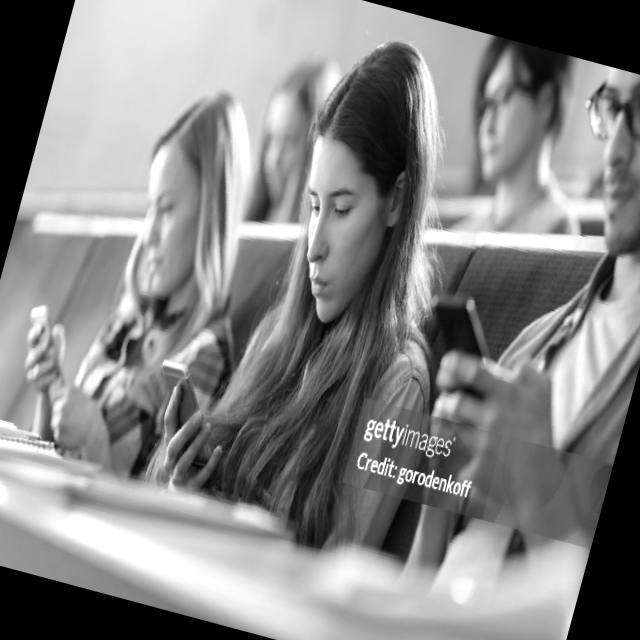phone: (408, 285, 504, 398), (138, 358, 232, 470), (12, 300, 81, 390)
